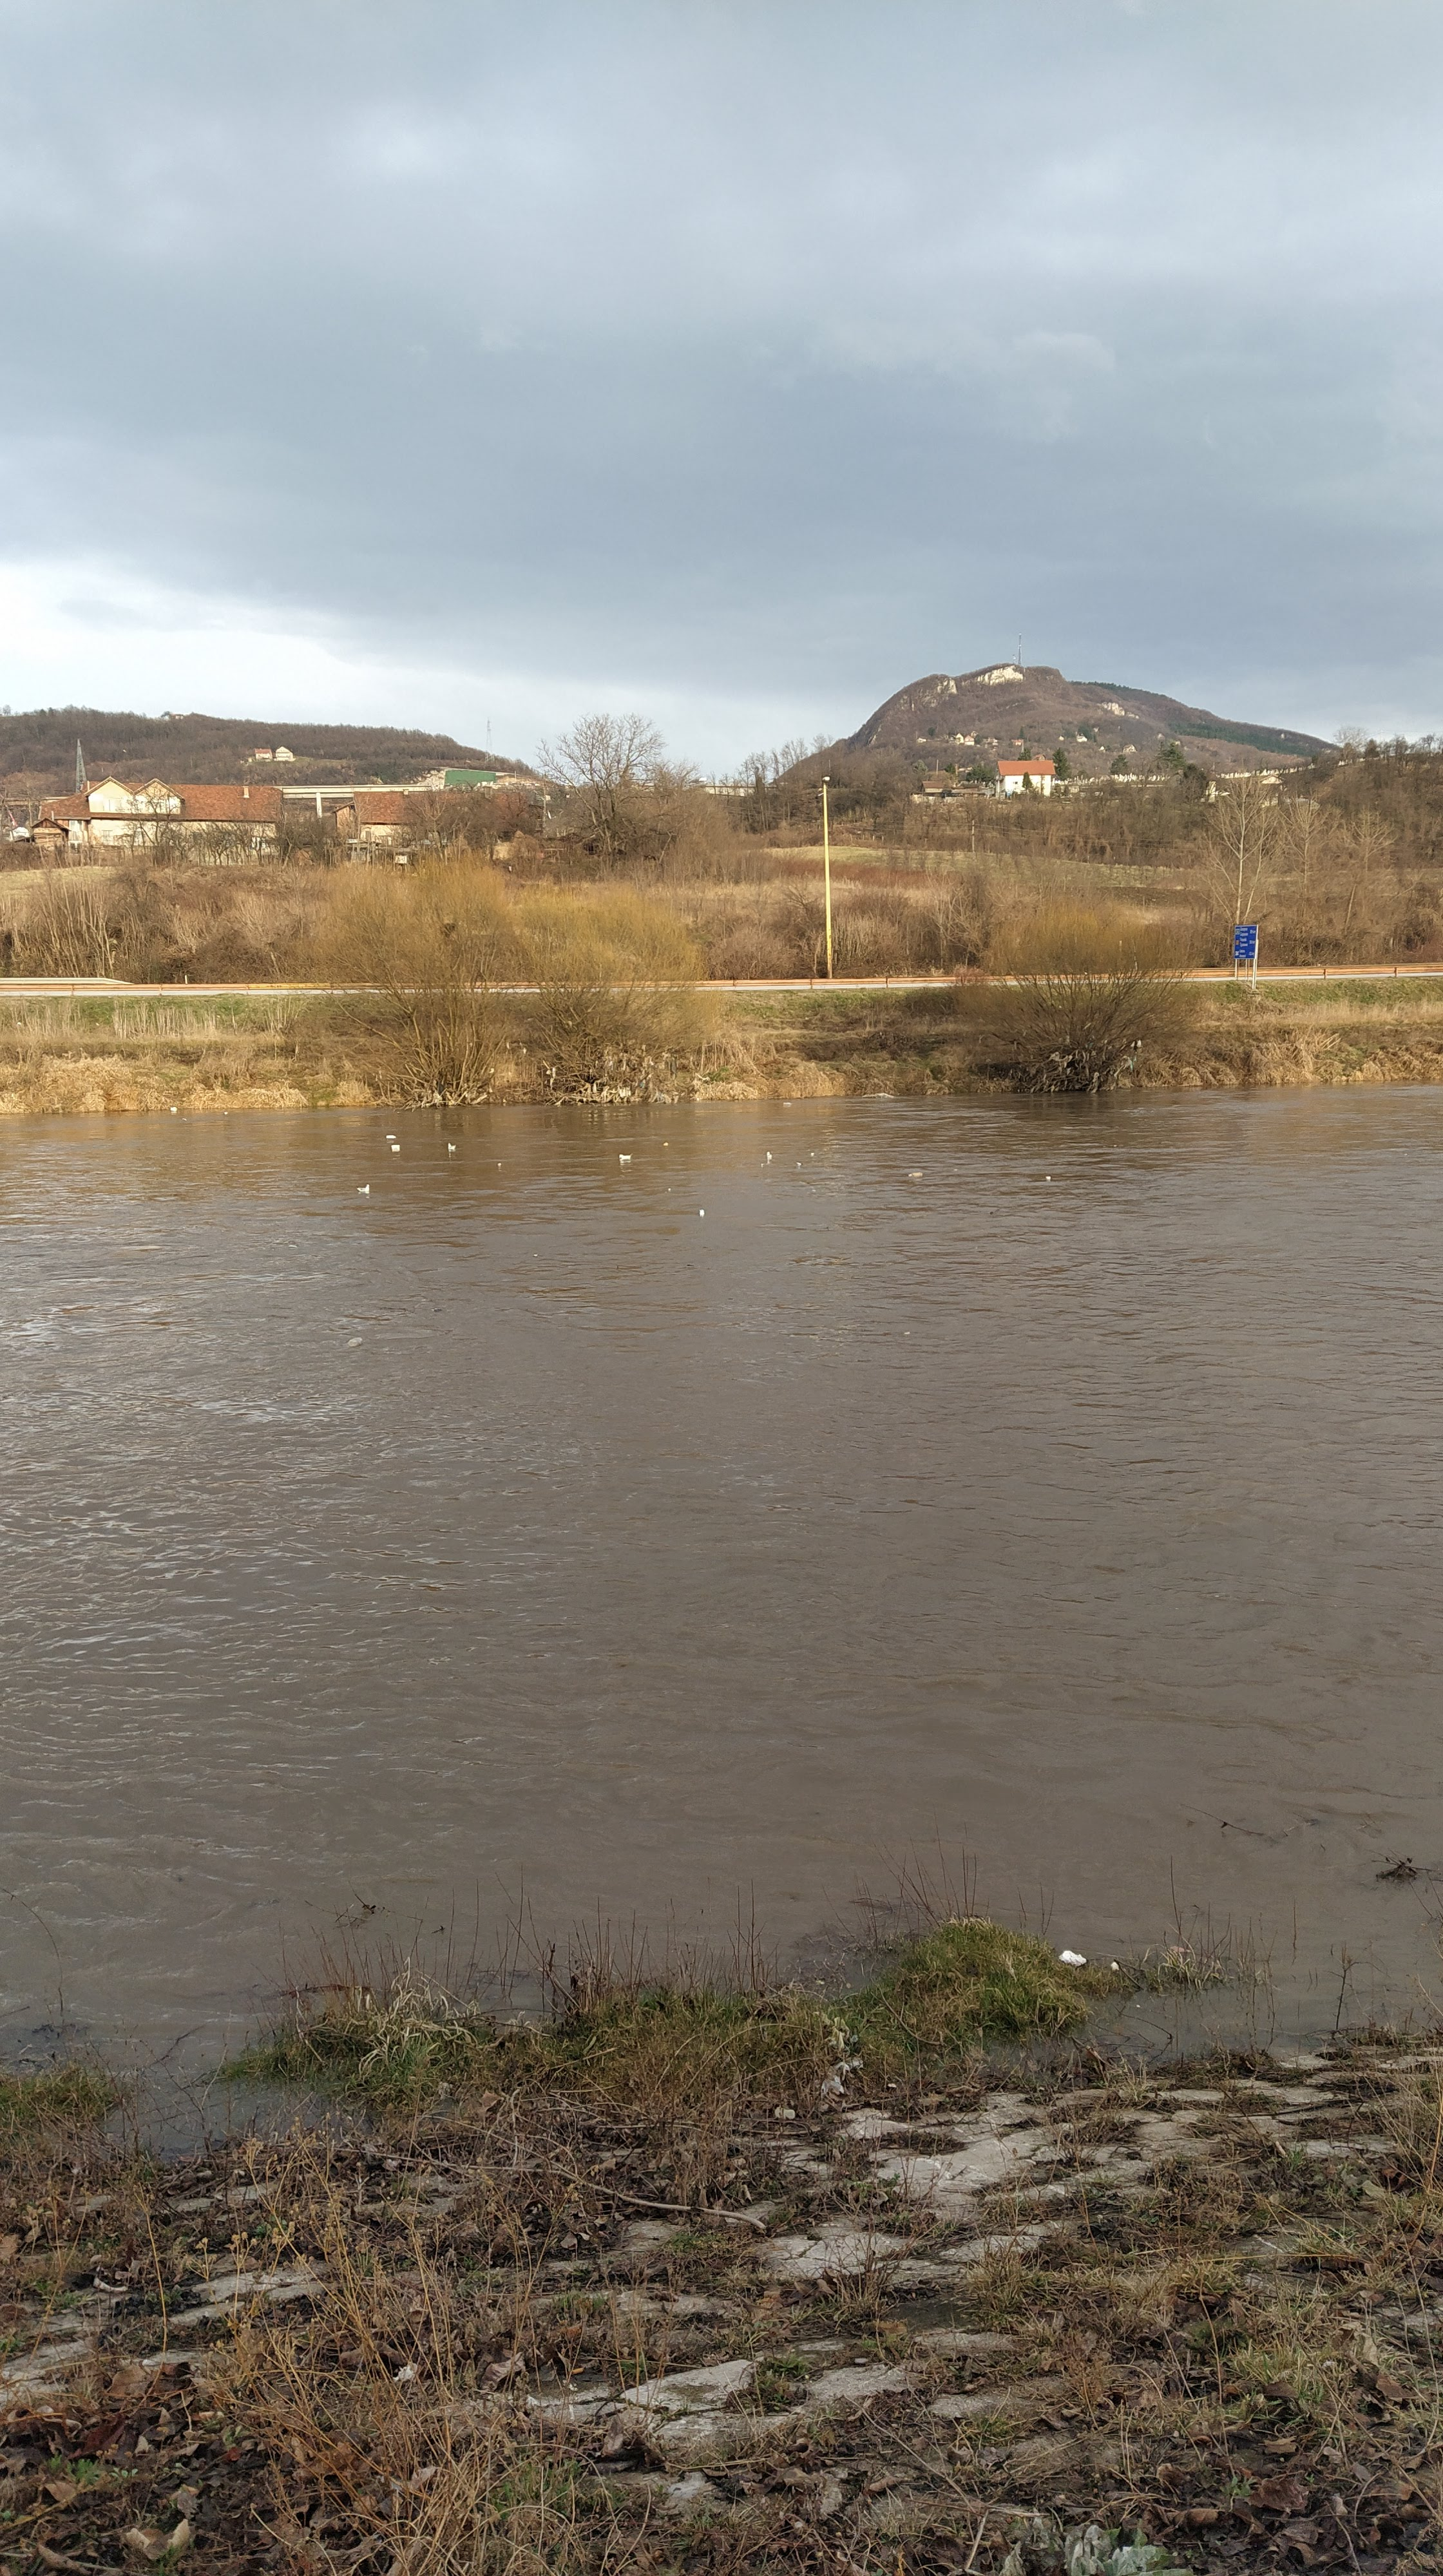Plastic Bottle: (349, 1336, 361, 1345), (908, 1173, 922, 1177), (386, 1134, 395, 1139), (783, 1102, 790, 1104)
